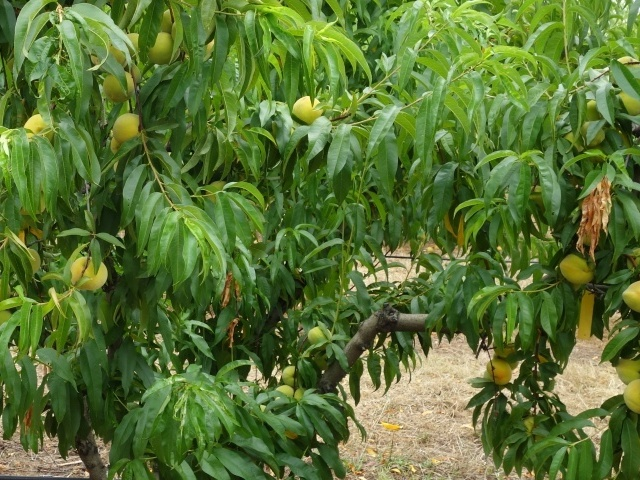peach: (66, 252, 109, 295), (558, 248, 596, 289), (288, 92, 326, 128), (16, 109, 54, 144), (109, 110, 146, 145), (102, 70, 138, 105), (143, 29, 177, 65), (611, 354, 640, 390), (487, 335, 519, 365), (484, 357, 513, 390), (618, 273, 640, 315), (306, 322, 334, 353), (619, 374, 640, 415), (164, 18, 190, 50), (280, 363, 304, 391), (21, 248, 43, 275), (274, 379, 297, 404)
